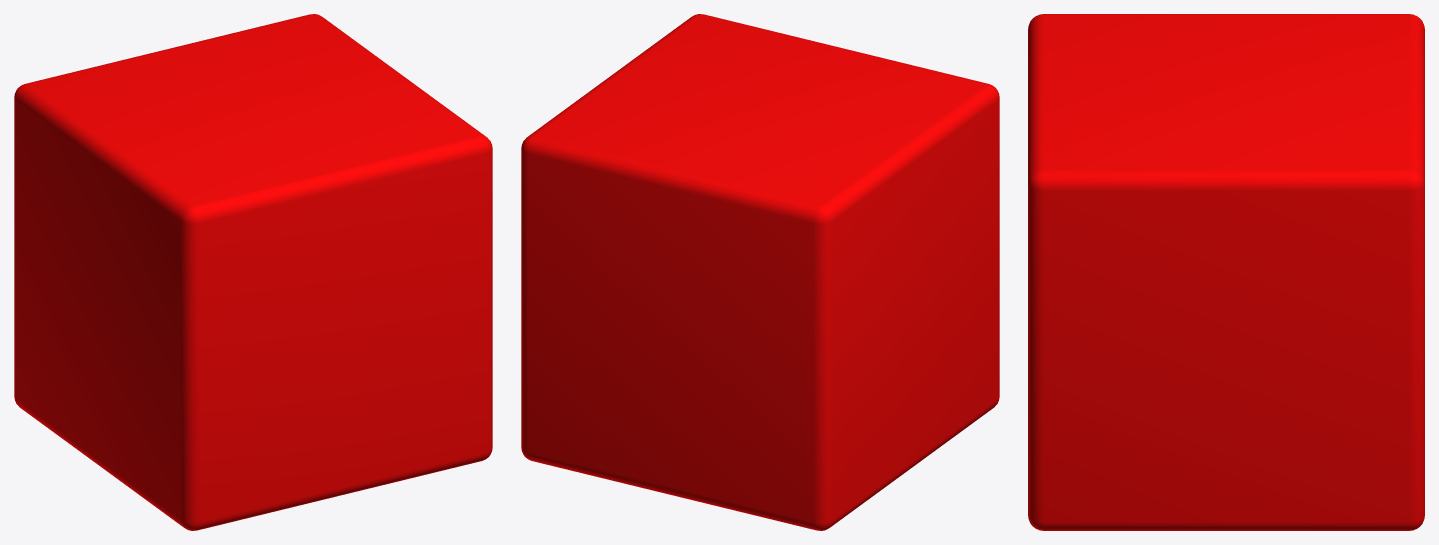
File: cube-red.glb
The picture shows the model from 3 angles, left to right: view 1: azimuth 30°, elevation 25°; view 2: azimuth 150°, elevation 25°; view 3: azimuth 270°, elevation 25°; orthographic projection. The views are drawn at different scales.
Visible parts, largest first — view 1: Cube; view 2: Cube; view 3: Cube.
Boxes of the visible parts, bbox=[...] form: Cube: bbox=[14, 14, 492, 530]; Cube: bbox=[521, 14, 999, 530]; Cube: bbox=[1028, 14, 1424, 530].
Bounding box in the file's own units: 0.2 × 0.2 × 0.2.
